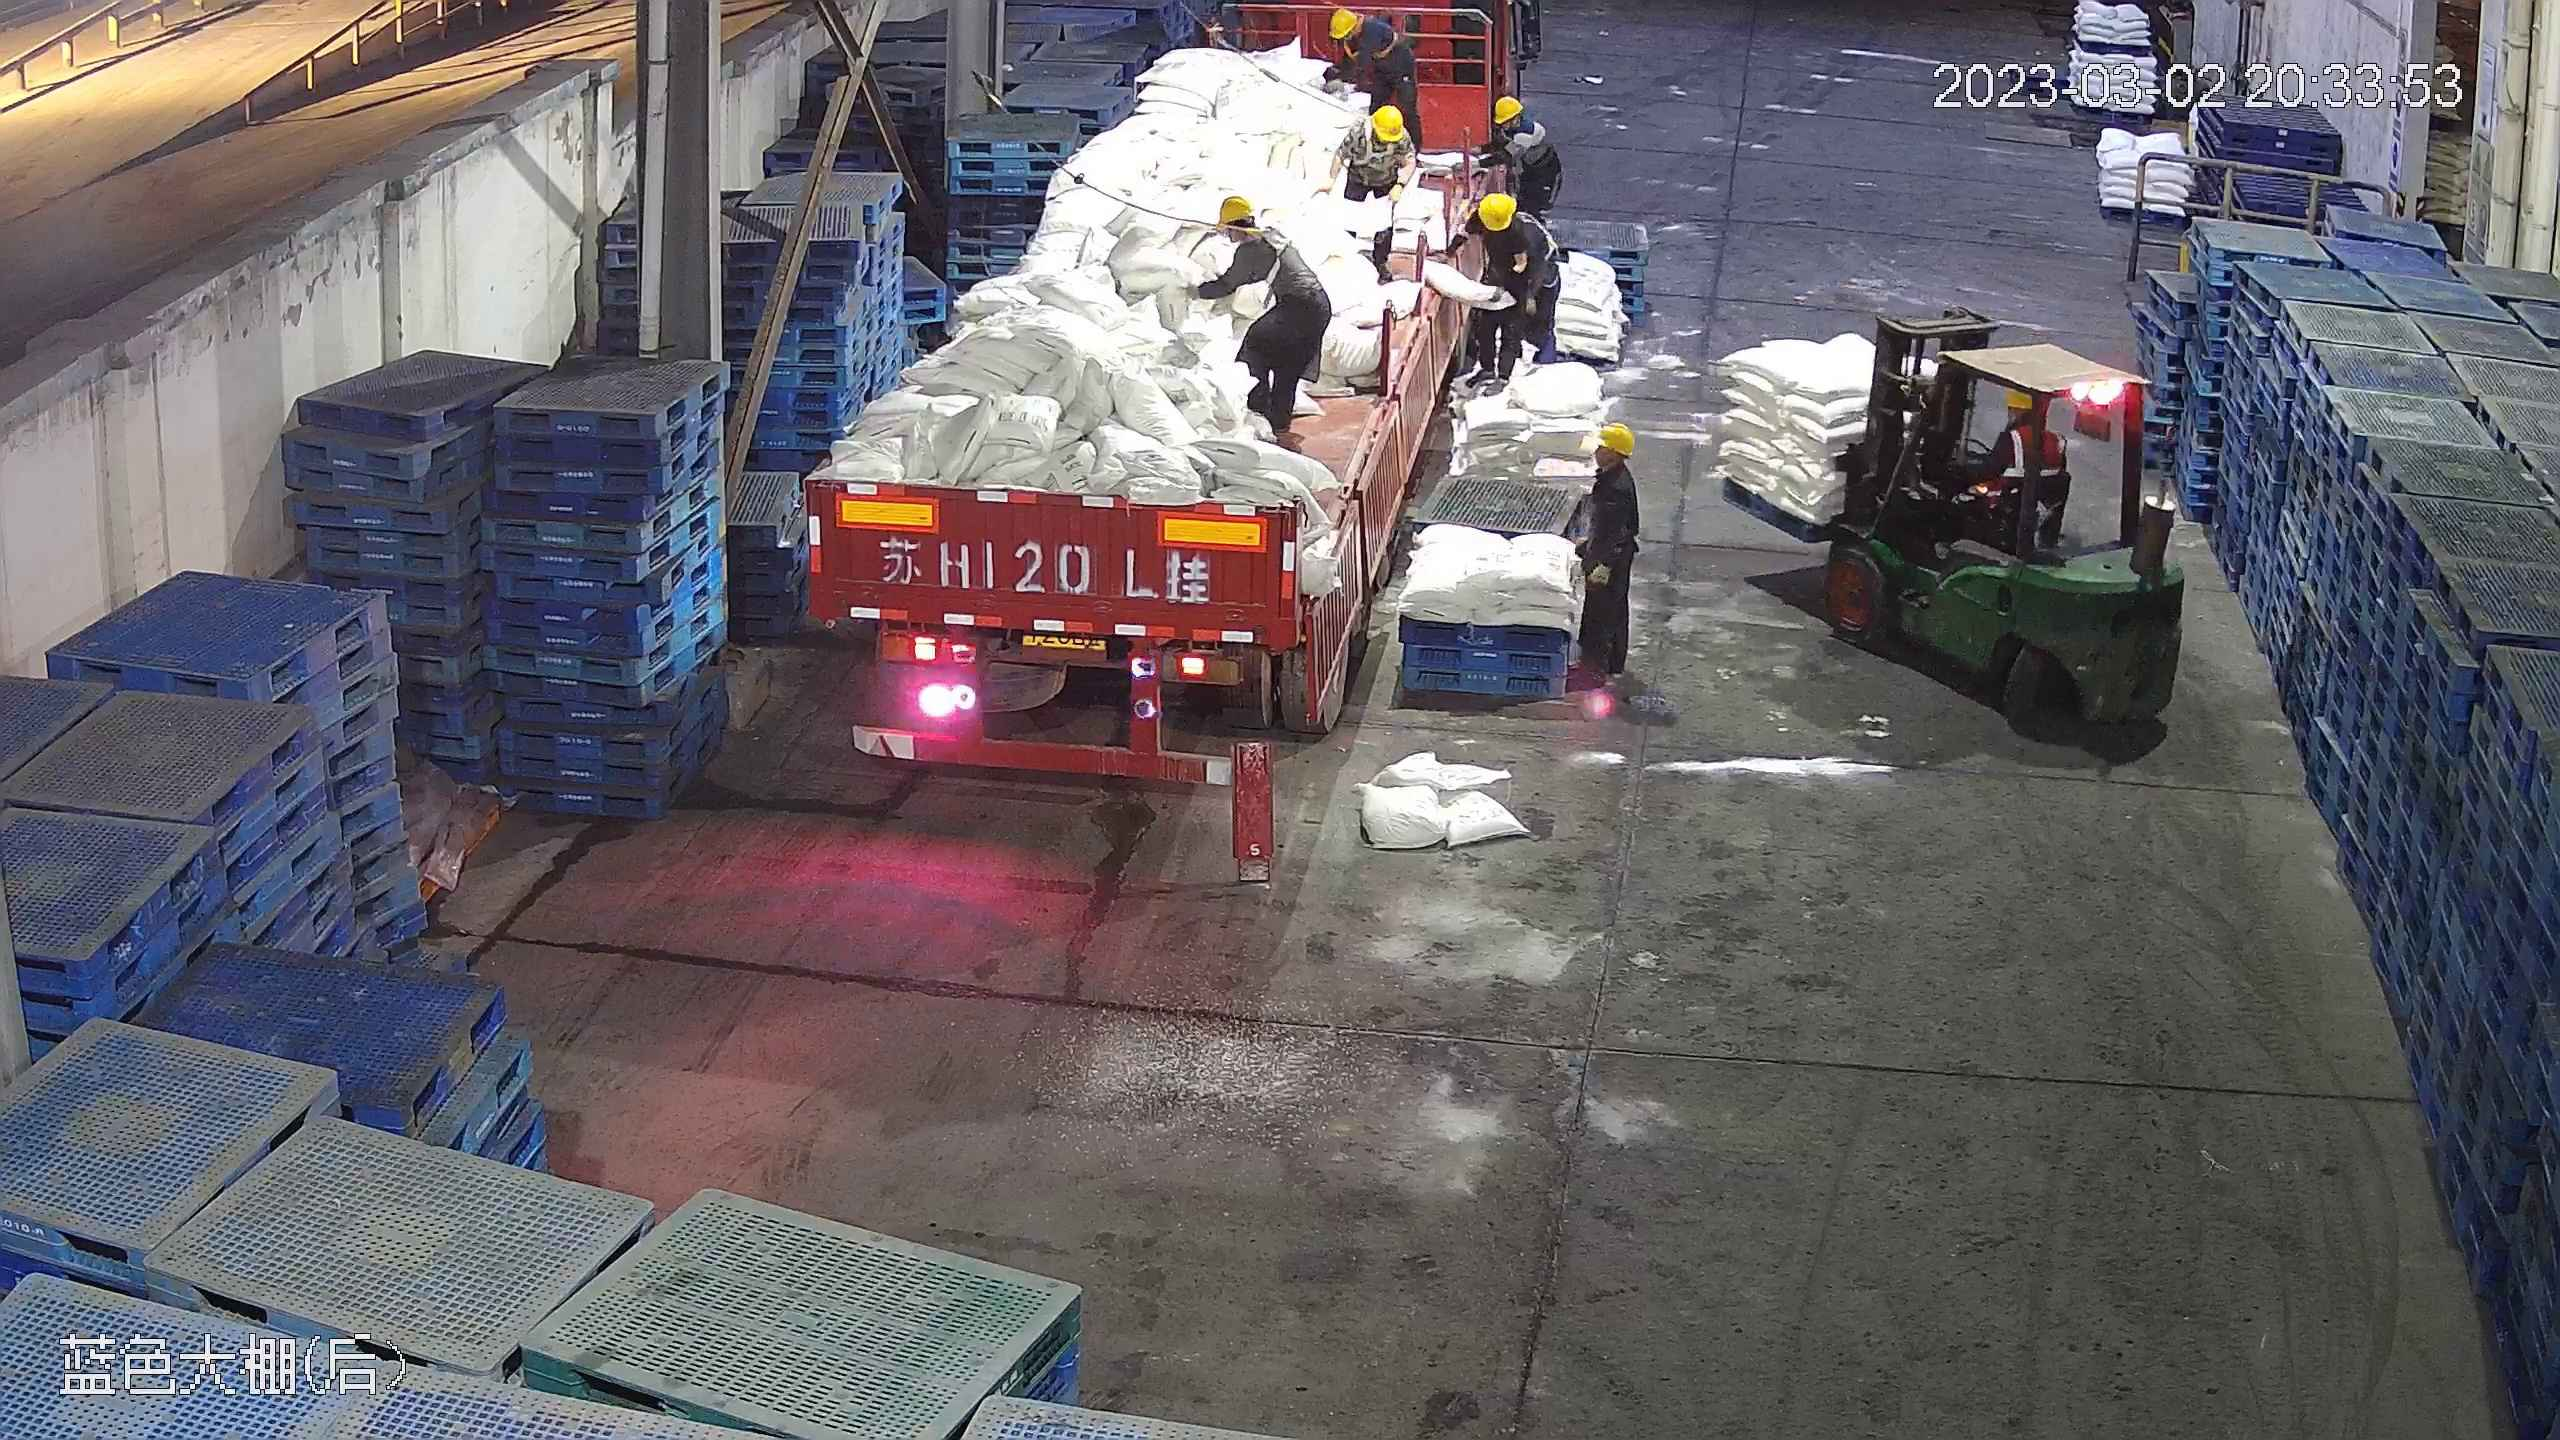belt: (1252, 224, 1317, 288), (1514, 209, 1566, 262), (1354, 116, 1403, 172), (1351, 22, 1408, 70)
head: (1213, 193, 1291, 272), (1984, 384, 2056, 463), (1578, 421, 1639, 512), (1459, 186, 1538, 257), (1344, 103, 1416, 167), (1325, 8, 1400, 66), (1494, 99, 1556, 162)
helmet: (1474, 188, 1517, 232), (1591, 421, 1637, 455), (1215, 193, 1258, 229), (1372, 105, 1410, 142), (1328, 7, 1365, 41), (1491, 95, 1524, 126), (2002, 384, 2038, 411)
people: (1190, 190, 1335, 446), (1425, 187, 1557, 392), (1564, 419, 1643, 693), (1960, 380, 2068, 535), (1327, 7, 1415, 174), (1330, 106, 1415, 272), (1485, 97, 1575, 215)
truck: (801, 1, 1545, 780)
